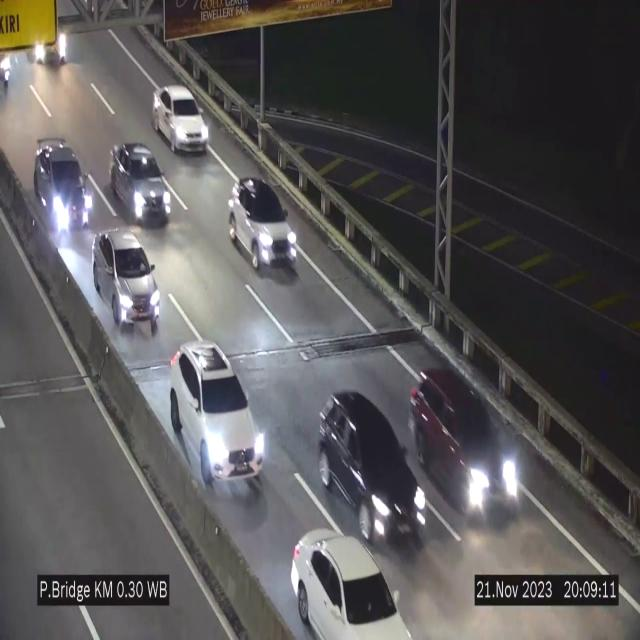Car: (279, 515, 422, 640), (318, 390, 427, 550), (417, 371, 519, 527), (170, 344, 266, 492), (95, 228, 162, 343), (229, 176, 298, 272), (35, 135, 93, 237), (110, 143, 170, 226), (152, 86, 209, 152)
